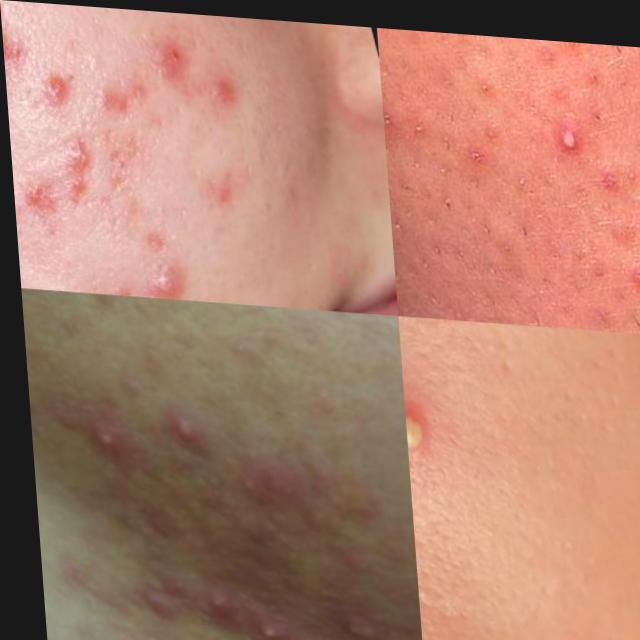8: (191, 49, 267, 128), (135, 16, 200, 102), (220, 461, 291, 519)
9: (397, 373, 452, 483), (146, 397, 214, 467), (63, 426, 129, 475), (181, 577, 224, 625), (121, 263, 179, 297), (234, 602, 283, 640)
blackheads: (11, 186, 68, 246), (101, 134, 145, 207), (322, 592, 384, 640), (59, 144, 96, 222)
whiteheads: (536, 107, 588, 160), (481, 109, 506, 146), (552, 32, 589, 55)
